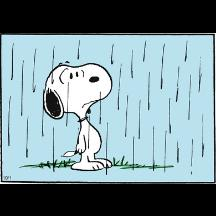snoopy: (44, 62, 112, 171)
